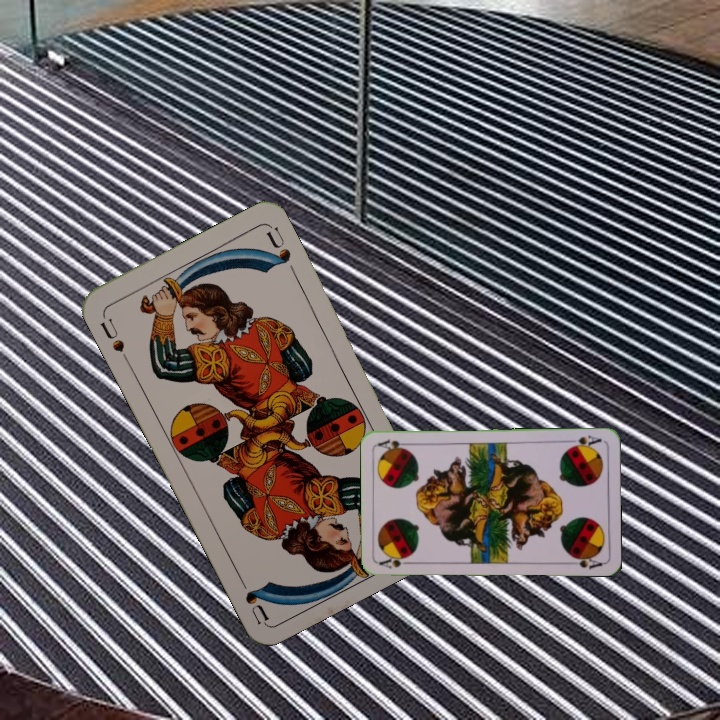SA: (564, 431, 604, 451), (376, 553, 416, 571)
SU: (96, 310, 132, 365)
